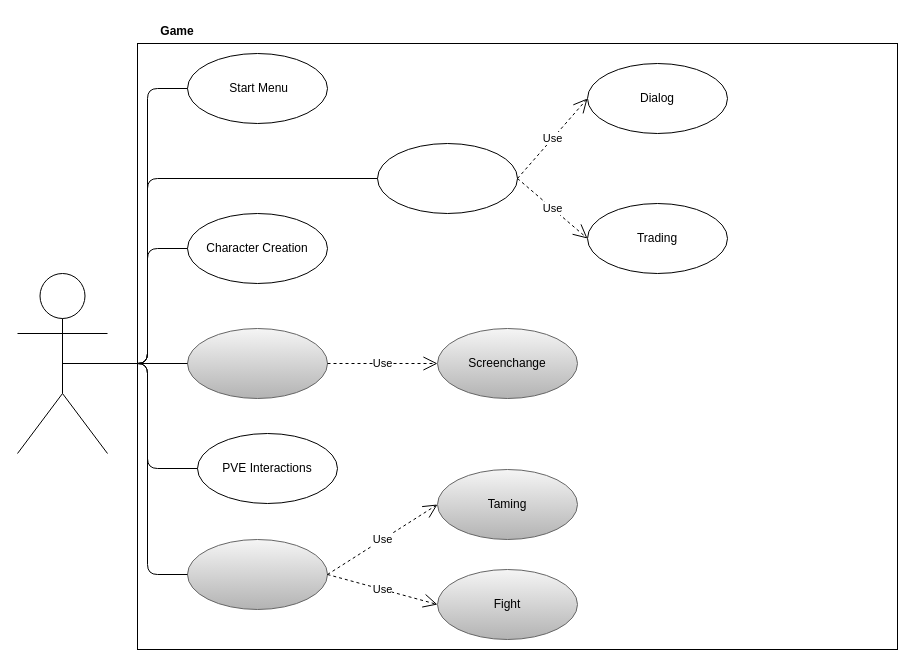
This 915x667 diagram has some shape labels left out. Each missing label, with the centre of its shape:
"Actor" belongs at (x=62, y=363).
"Battle" belongs at (x=257, y=574).
"Interact" belongs at (x=447, y=178).
"Movement" belongs at (x=257, y=363).
